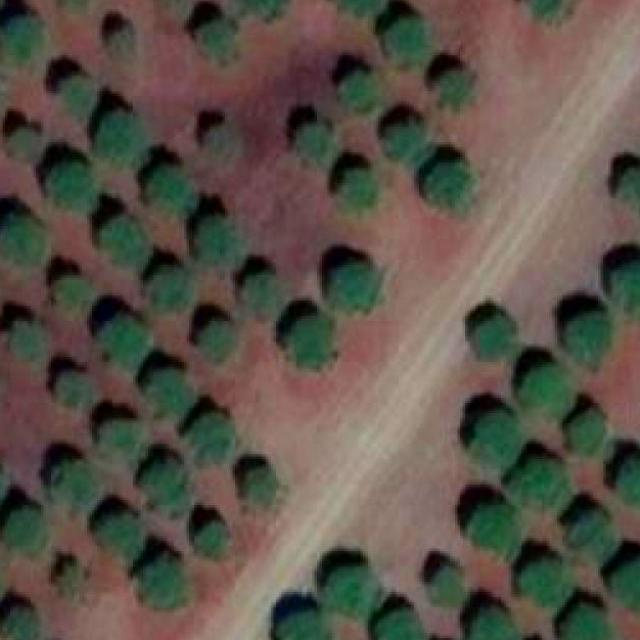Tree: (136, 457, 197, 518), (468, 408, 524, 467), (508, 459, 568, 513), (281, 314, 341, 368), (325, 263, 381, 317), (524, 367, 580, 418), (95, 106, 146, 162), (428, 158, 478, 214), (559, 510, 619, 556), (95, 510, 149, 561), (97, 217, 148, 271), (468, 505, 524, 554), (51, 456, 97, 515), (138, 548, 184, 607), (44, 162, 98, 212), (332, 166, 382, 220), (327, 566, 378, 618), (141, 367, 195, 416), (0, 213, 51, 264), (198, 217, 244, 273), (382, 15, 432, 66), (146, 164, 198, 213), (184, 413, 235, 462), (97, 316, 148, 365), (237, 270, 286, 321), (422, 68, 478, 112), (0, 18, 44, 74), (562, 313, 612, 362), (232, 464, 281, 513), (0, 505, 46, 554), (97, 420, 143, 469), (48, 370, 97, 416), (148, 262, 194, 311), (470, 313, 514, 362), (562, 411, 608, 457), (522, 559, 568, 603), (8, 321, 52, 367), (192, 20, 236, 66), (200, 321, 240, 370), (336, 70, 380, 114), (368, 609, 429, 640), (526, 0, 582, 33), (465, 604, 516, 640), (384, 120, 424, 164), (51, 74, 95, 114), (560, 604, 608, 640), (194, 518, 233, 562), (51, 275, 90, 319), (605, 558, 640, 607), (428, 566, 468, 608), (610, 453, 640, 507), (51, 564, 87, 608), (5, 126, 44, 166), (202, 121, 240, 162), (610, 262, 640, 313), (294, 124, 332, 162), (279, 612, 330, 640), (0, 602, 36, 640), (105, 26, 139, 66), (613, 168, 640, 212)
